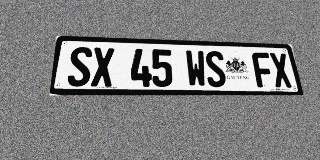4: (131, 48, 152, 87)
5: (152, 49, 173, 87)
F: (251, 52, 275, 87)
S: (67, 47, 92, 87), (204, 51, 227, 87)
W: (185, 50, 207, 87)
X: (91, 47, 114, 87), (269, 53, 293, 88)
